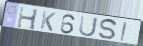6: (60, 13, 76, 35)
H: (15, 6, 40, 32)
I: (120, 21, 128, 43)
K: (39, 11, 57, 33)
S: (98, 18, 118, 41)
U: (78, 14, 99, 38)
